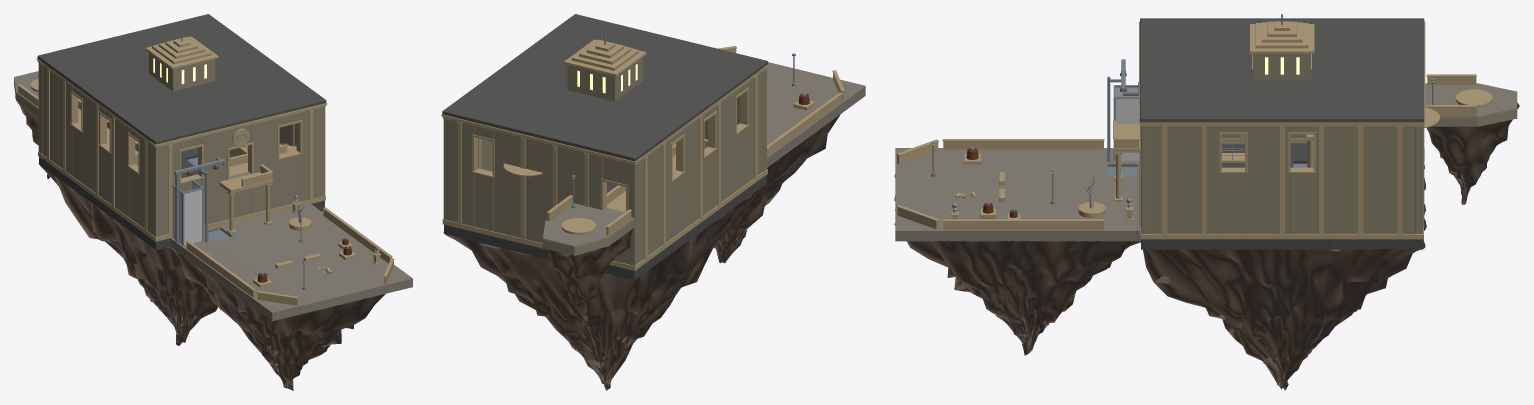
File: d_weighhouse.glb
3 renders of one model, left to right at view 1: azimuth 30°, elevation 25°; view 2: azimuth 150°, elevation 25°; view 3: azimuth 270°, elevation 25°, orthographic. The views are drawn at different scales.
Parts seen in each view (by area): view 1: island_d_weighhouse, chunk_forecourt; view 2: island_d_weighhouse, chunk_forecourt; view 3: island_d_weighhouse, chunk_forecourt.
Boxes of the visible parts, x1=… form: island_d_weighhouse: x1=14, y1=14, x2=327, y2=345; chunk_forecourt: x1=170, y1=157, x2=412, y2=390; island_d_weighhouse: x1=441, y1=14, x2=769, y2=390; chunk_forecourt: x1=714, y1=46, x2=865, y2=263; island_d_weighhouse: x1=1113, y1=14, x2=1519, y2=390; chunk_forecourt: x1=894, y1=59, x2=1140, y2=355.
Size of the model in its own units: 24.61 by 42.57 by 63.86.
